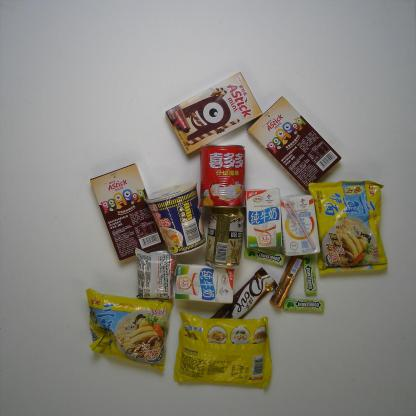Alcohol: (204, 206, 246, 271)
Candy: (268, 256, 305, 309)
Canned Food: (197, 142, 248, 210)
Chocolate: (209, 266, 280, 319)
Dessert: (244, 95, 343, 193), (163, 70, 263, 157), (88, 161, 164, 262), (132, 247, 176, 302)
Gum: (243, 247, 286, 267), (282, 298, 326, 314), (302, 255, 318, 296)
Instant Noodles: (171, 309, 275, 395), (82, 285, 175, 376), (307, 179, 390, 276), (142, 181, 207, 256)
Milk: (172, 262, 236, 305), (281, 193, 321, 257), (244, 187, 283, 249)
